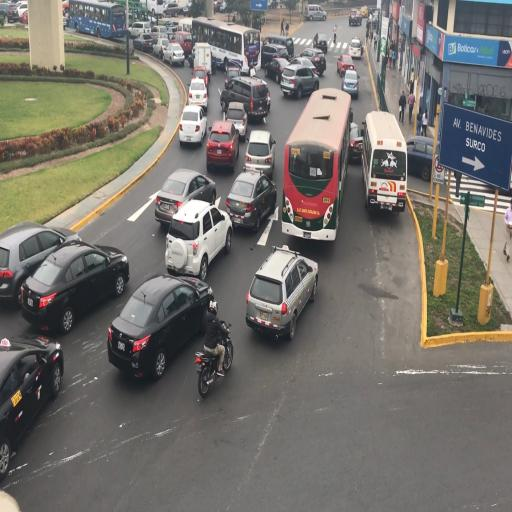auto: (20, 239, 128, 334), (0, 334, 63, 486), (246, 243, 316, 339), (165, 200, 231, 277), (154, 166, 216, 228), (225, 169, 276, 232), (222, 72, 270, 122), (406, 134, 442, 182), (206, 120, 239, 172), (244, 129, 275, 177), (281, 64, 319, 100), (178, 103, 207, 147), (224, 101, 248, 139), (263, 56, 293, 84), (170, 29, 193, 60), (301, 48, 326, 76), (260, 41, 286, 67), (348, 121, 364, 163), (163, 42, 185, 68), (191, 66, 210, 96), (341, 68, 359, 99), (133, 30, 156, 52), (128, 20, 152, 40), (336, 54, 356, 78), (152, 35, 171, 60), (0, 0, 20, 23), (304, 3, 326, 21), (313, 32, 328, 55), (150, 24, 169, 42), (347, 37, 362, 59), (348, 9, 362, 26), (214, 0, 228, 13), (64, 9, 70, 28)
bus: (282, 87, 348, 240), (360, 108, 408, 216), (192, 17, 255, 74), (70, 0, 126, 40)
camion: (191, 42, 214, 80), (175, 16, 194, 40)
moto: (196, 322, 234, 396)
